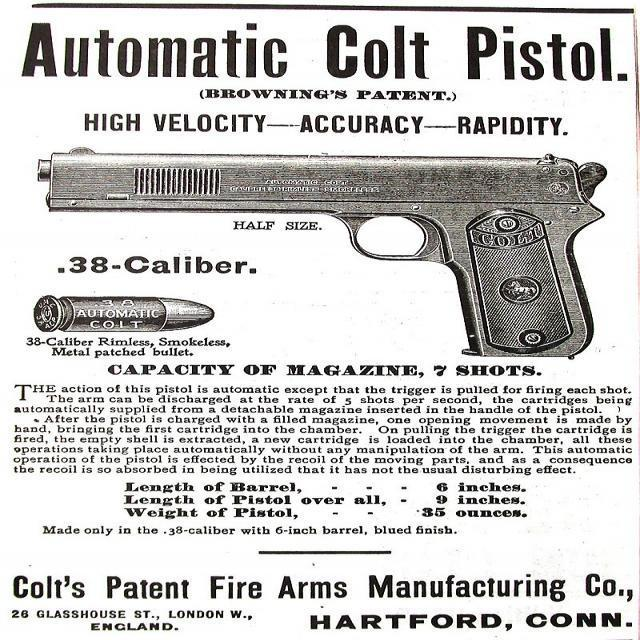gun: (29, 140, 608, 363)
